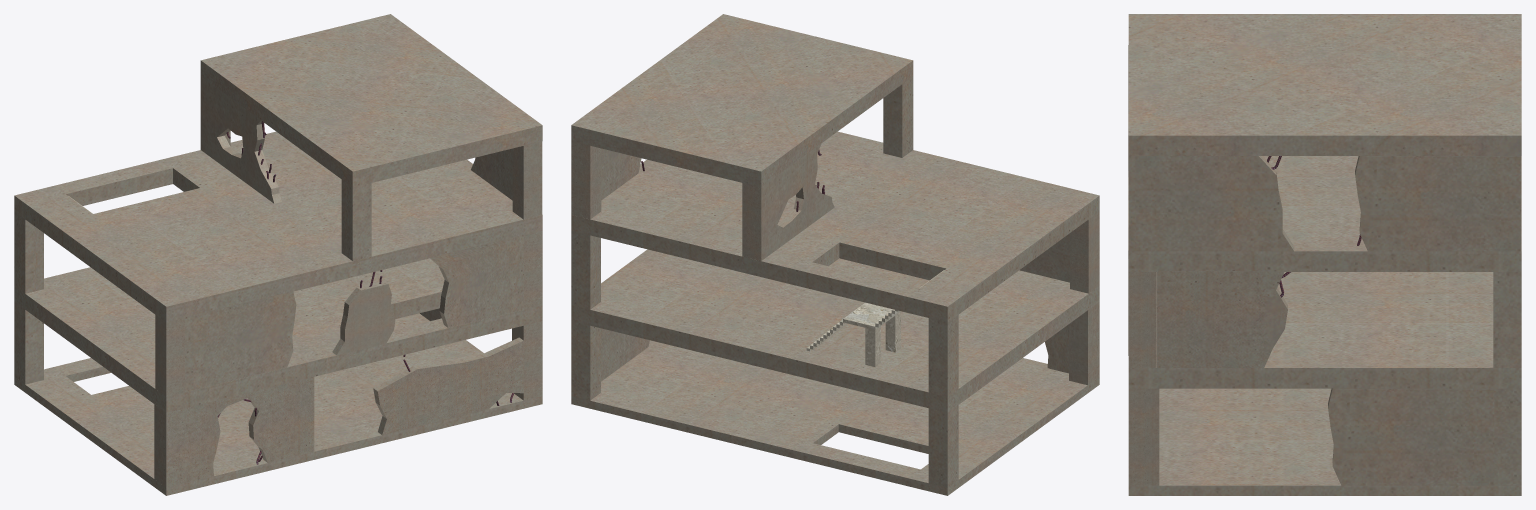
The model's file is ConstructionSite.fbx.
3 views of the same model, side by side, from view 1: azimuth 30°, elevation 25°; view 2: azimuth 150°, elevation 25°; view 3: azimuth 270°, elevation 25° (orthographic). The views are drawn at different scales.
Visible parts, largest first — view 1: Cube.019; view 2: Cube.019, Cube.020; view 3: Cube.019.
Boxes of the visible parts, left/top/right/bottom form: Cube.019: left=14, top=14, right=542, bottom=495; Cube.019: left=571, top=14, right=1099, bottom=495; Cube.020: left=806, top=270, right=943, bottom=366; Cube.019: left=1128, top=14, right=1521, bottom=495.
Size of the model in its own units: 3979 by 2816 by 2783.
